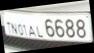character: (44, 17, 55, 36), (55, 18, 65, 38), (65, 19, 76, 37), (76, 18, 86, 37), (35, 24, 44, 38), (29, 25, 36, 37), (11, 22, 17, 34), (17, 23, 23, 35), (6, 21, 11, 33), (23, 24, 28, 35)
